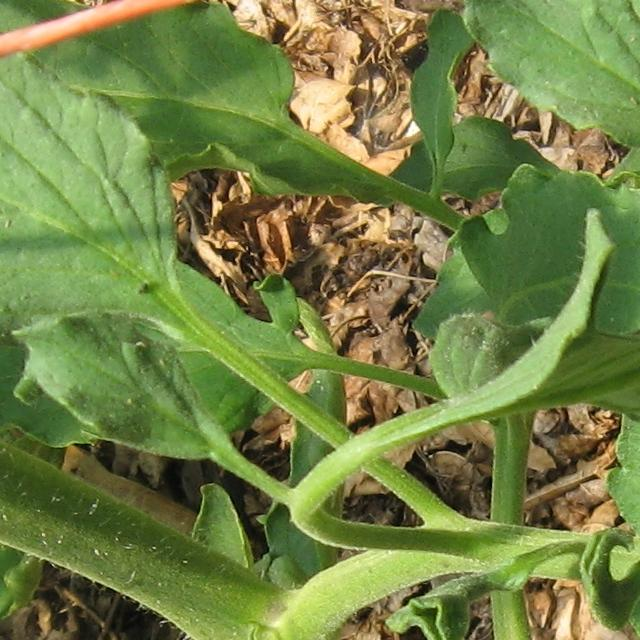Tomato leaf: (0, 19, 381, 459), (495, 0, 640, 286)
